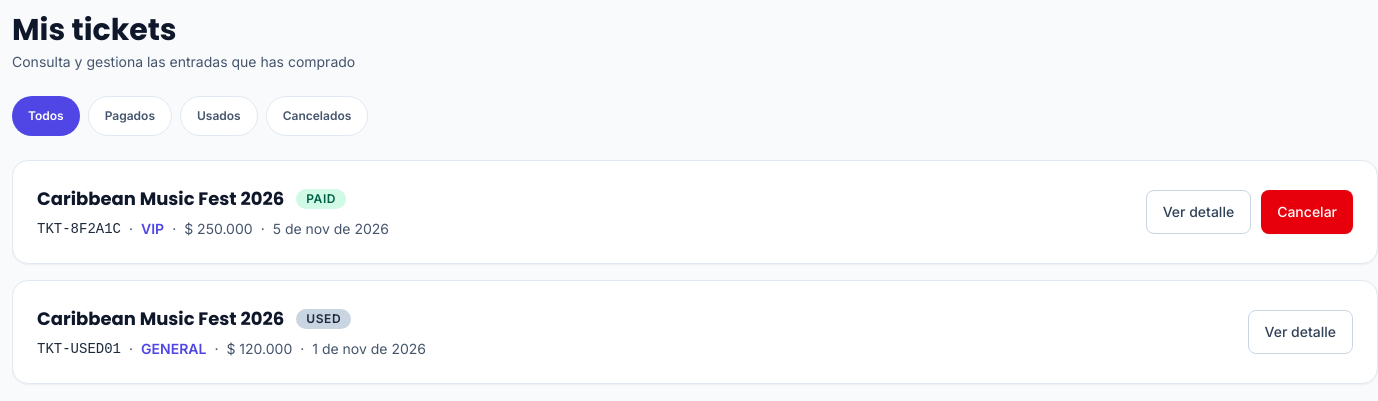
Test case: Tickets y Compra › TEST-FE-TKT-005: mis tickets lista entradas y permite filtrar por chips
Expected: the text "TKT-8F2A1C" is shown, top-left (37, 219), bottom-right (121, 239)
Expected: the text "TKT-USED01" is shown, top-left (37, 339), bottom-right (121, 359)
Filtrar por 'Usados'
Click the button "Usados". click: point(219, 116)
box: top-left (180, 96), bottom-right (258, 136)
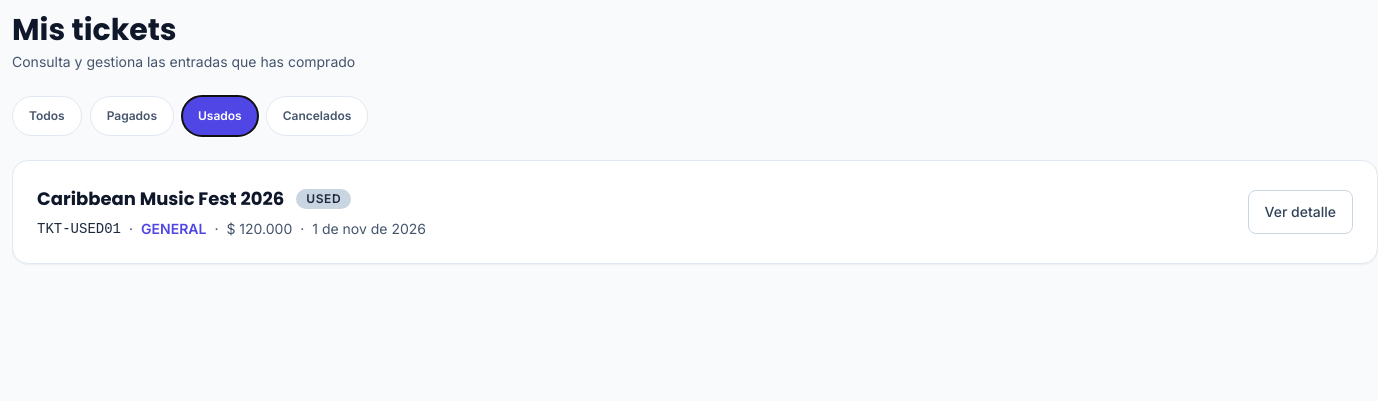
Expected: the text "TKT-USED01" is shown, top-left (37, 219), bottom-right (121, 239)
Now the text "TKT-8F2A1C" is gone
